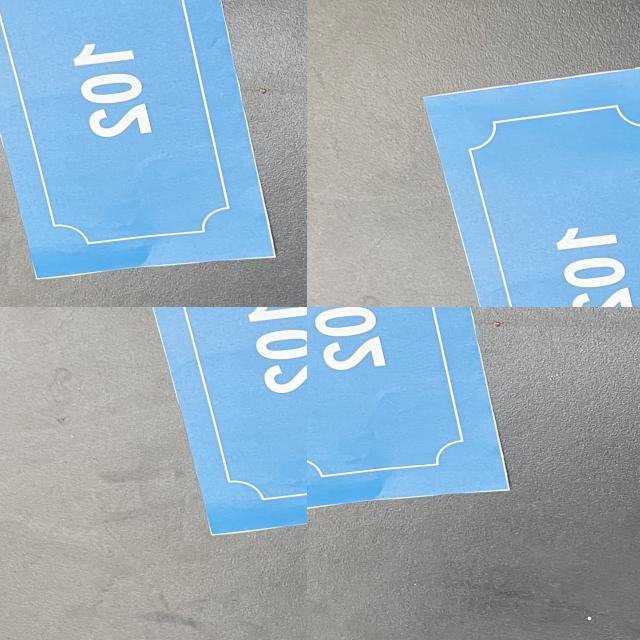Card: (0, 307, 307, 605), (307, 307, 532, 531), (482, 173, 640, 307), (203, 0, 307, 21)
